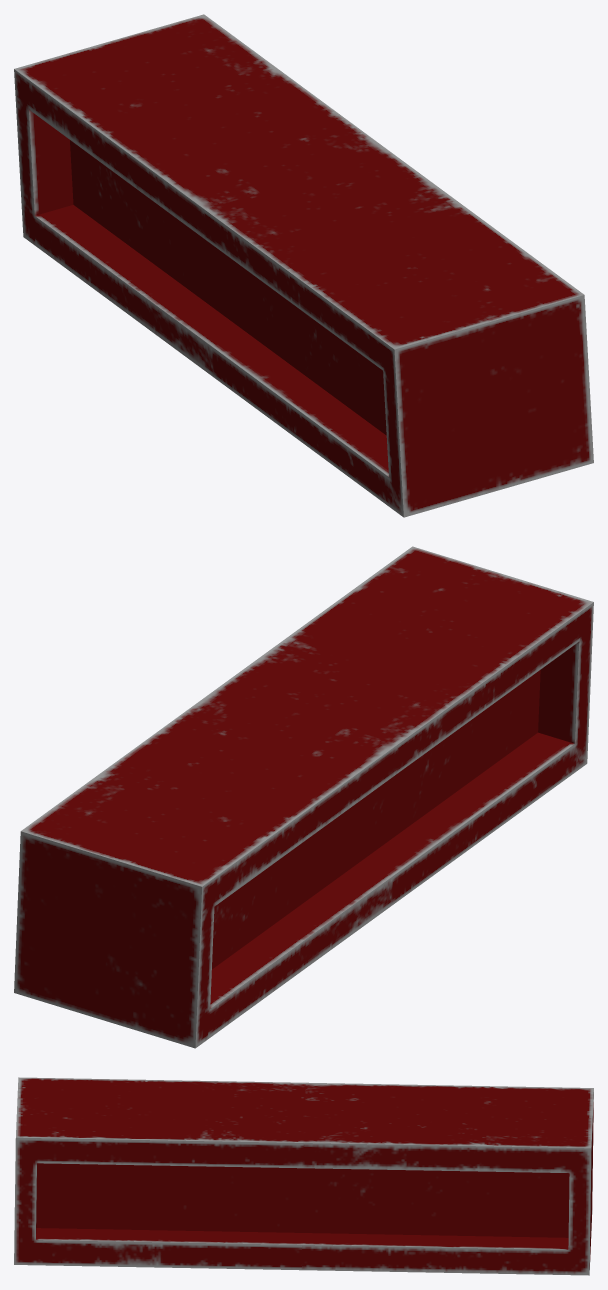
The model's file is VentThing.fbx.
3 renders of one model, top to bottom at view 1: azimuth 30°, elevation 25°; view 2: azimuth 150°, elevation 25°; view 3: azimuth 270°, elevation 25°, orthographic. The views are drawn at different scales.
Visible parts, largest first — view 1: ConstructionSteel; view 2: ConstructionSteel; view 3: ConstructionSteel.
Part boxes in pixels (<box>): ConstructionSteel: <box>14,14,593,517</box>; ConstructionSteel: <box>14,546,593,1048</box>; ConstructionSteel: <box>14,1077,593,1275</box>.
Size of the model in its own units: 250 by 216 by 823.
Materials: 1 (1 with a texture image).
